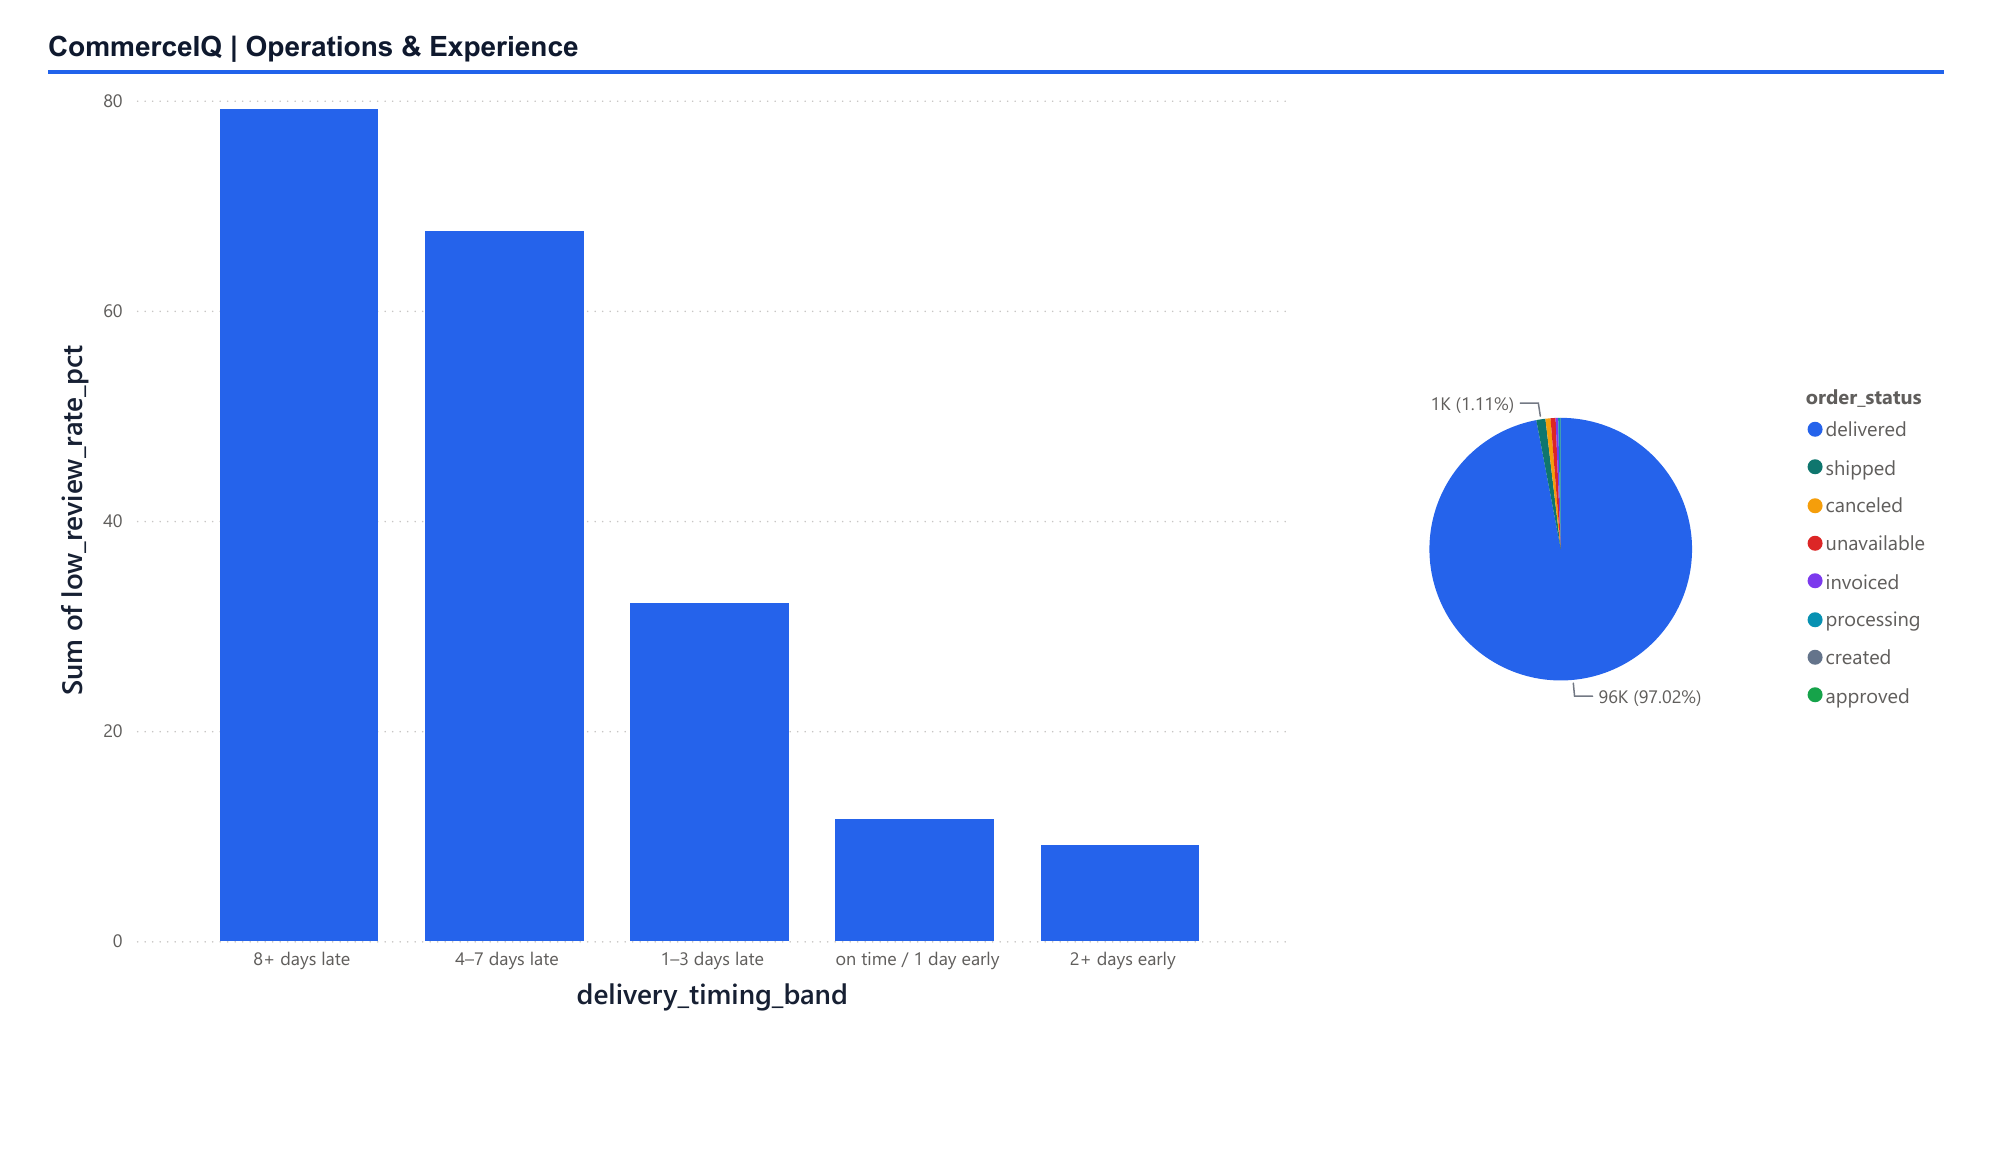

This screenshot's page, from the dashboard's own definition file:
{"tool":"powerbi","page":{"name":"Operations & Experience","canvas":[1280,720],"ordinal":1},"visuals":[{"type":"clusteredColumnChart","title":"Late Delivery Drives Low Reviews","fields":{"Category":["CommerceIQTable5.delivery_timing_band"],"Y":["Sum(CommerceIQTable5.low_review_rate_pct)"]},"box":[10.2,0,828.4,654.6],"z":0},{"type":"pieChart","title":"Order Fulfillment Status","fields":{"Category":["CommerceIQTable6.order_status"],"Y":["Sum(CommerceIQTable6.order_count)"]},"box":[848,0,432,655],"z":1000}]}

Visuals, with their boxes in screenshot pixels (x1, y1, x2, y2), scaled from the page's 1280x720 canvas onto the 1992x1152 screenshot:
"Late Delivery Drives Low Reviews" clusteredColumnChart: [left=16, top=0, right=1305, bottom=1047]
"Order Fulfillment Status" pieChart: [left=1320, top=0, right=1991, bottom=1048]
